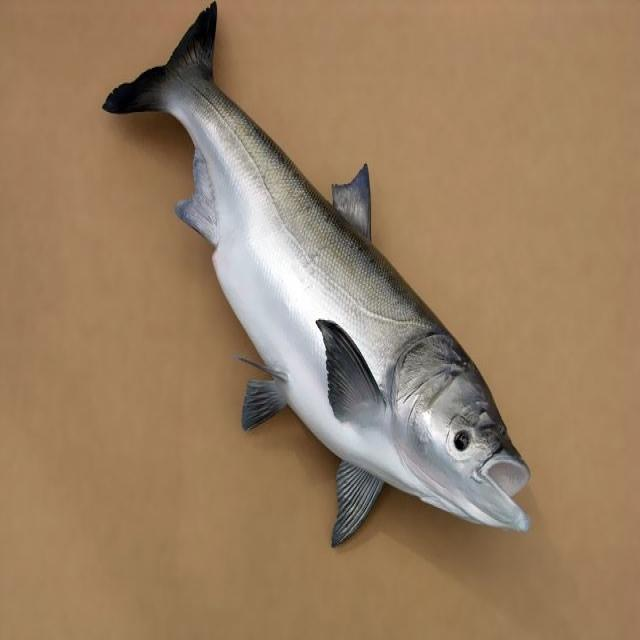Big-Head-Carp: (47, 4, 563, 576)
